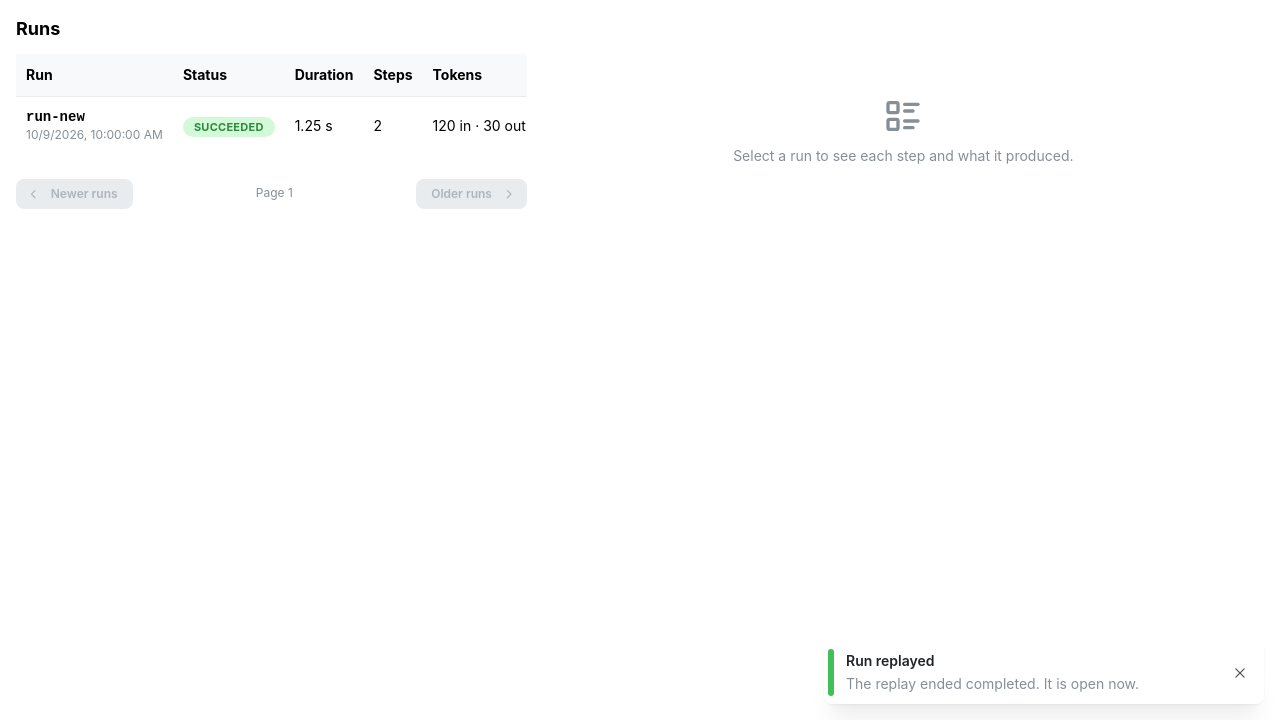
Scenario: Workflow executions › explains a run that cannot be replayed
Click the button with aria-label "open run run-new".
click(94, 125)  # box top-left (26, 107), bottom-right (163, 144)
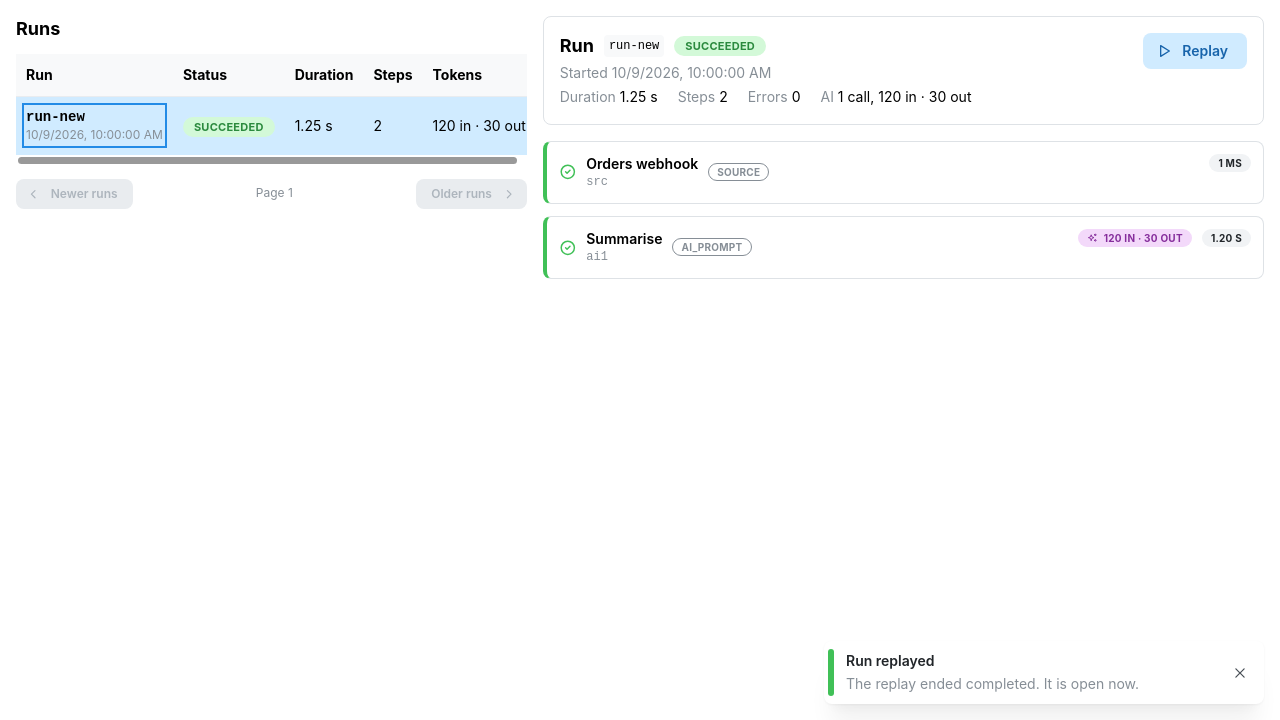
Click the button "Replay".
click(1195, 51)  # box top-left (1143, 33), bottom-right (1247, 69)
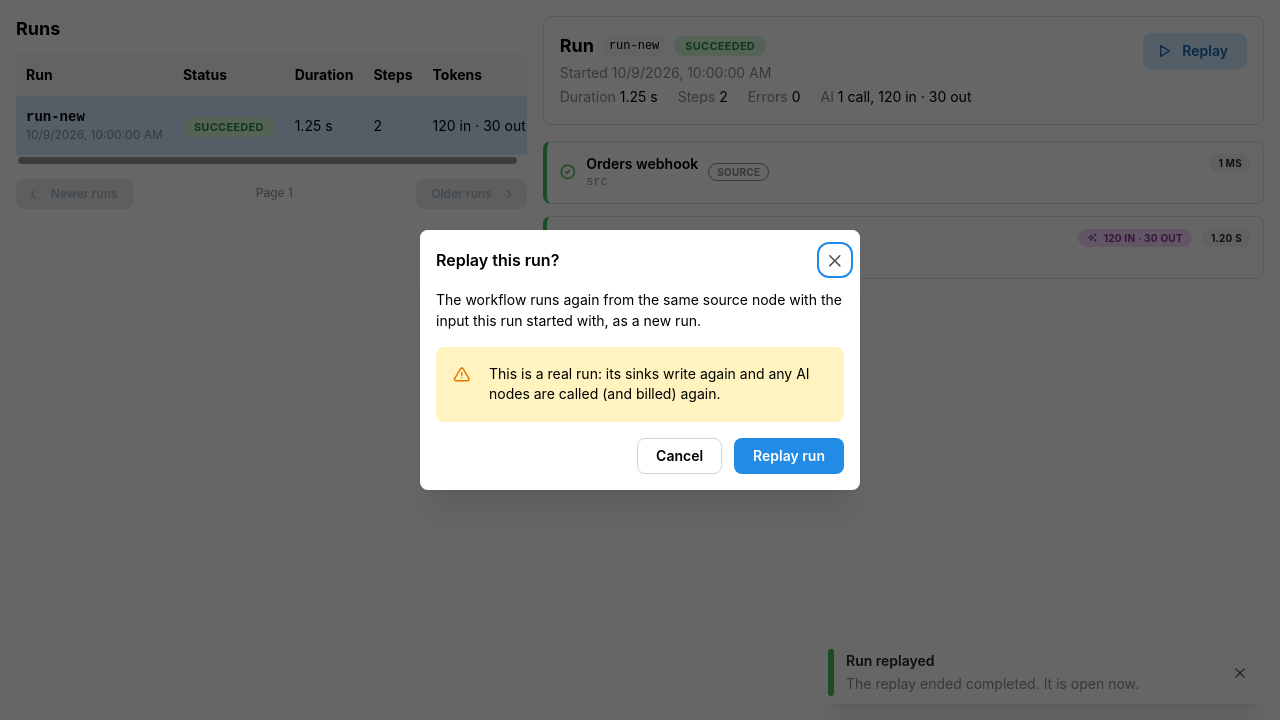
Click the button "Replay run".
click(789, 456)  # box top-left (734, 438), bottom-right (844, 474)
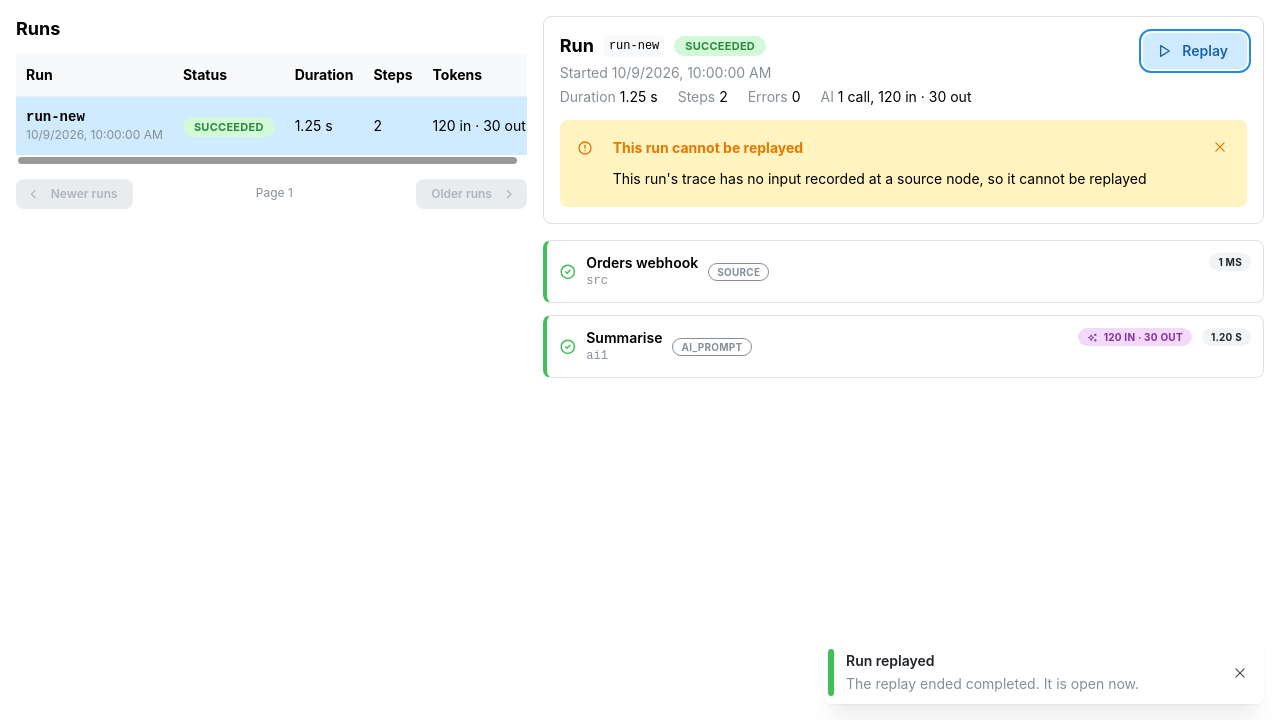
Expected: the text "no input recorded" is shown, top-left (613, 170), bottom-right (1146, 187)
